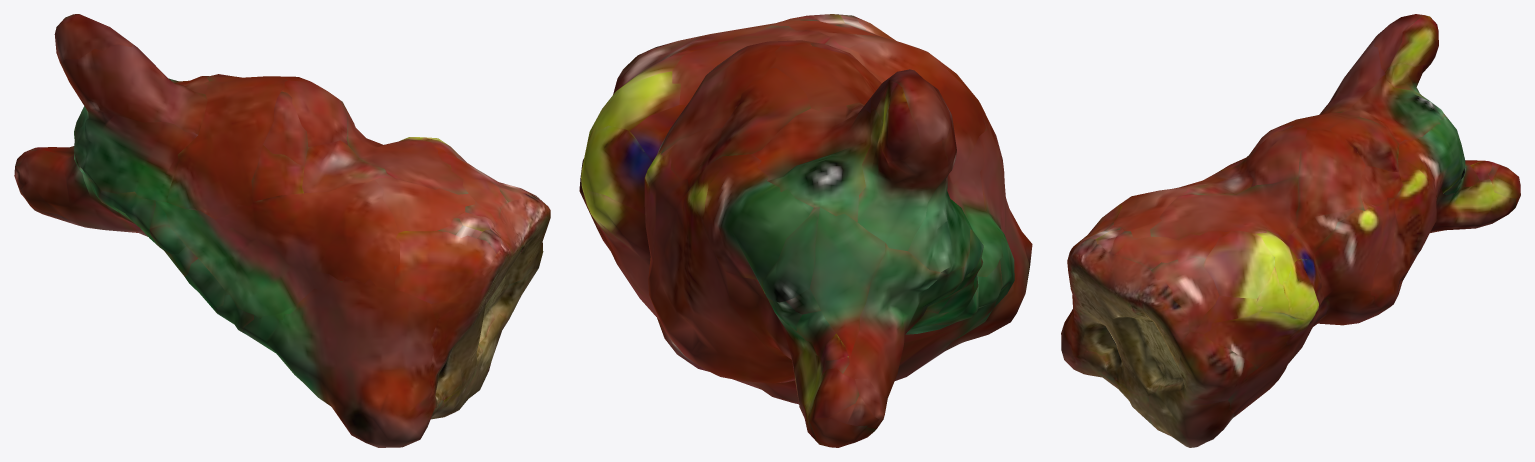
File: hall.glb
3 views of the same model, side by side, from view 1: azimuth 30°, elevation 25°; view 2: azimuth 150°, elevation 25°; view 3: azimuth 270°, elevation 25° (orthographic). The views are drawn at different scales.
Size of the model in its own units: 0.6596 by 0.6182 by 0.8017.
Materials: 1 (1 with a texture image).
